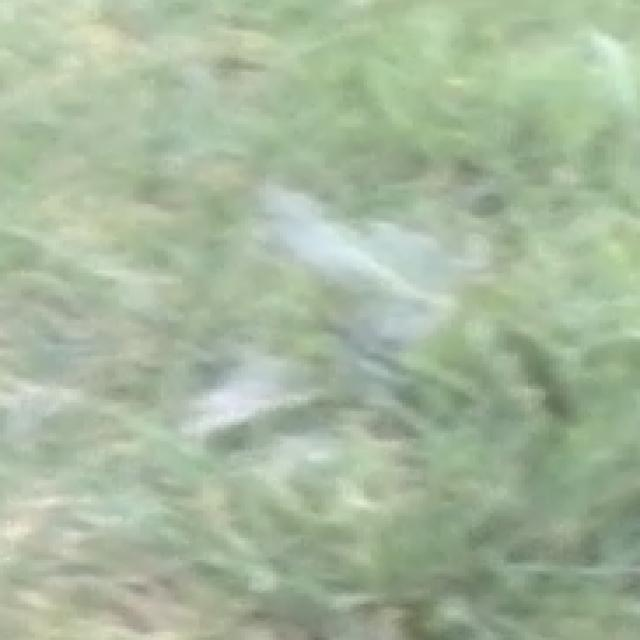organic waste: (187, 187, 569, 438)
